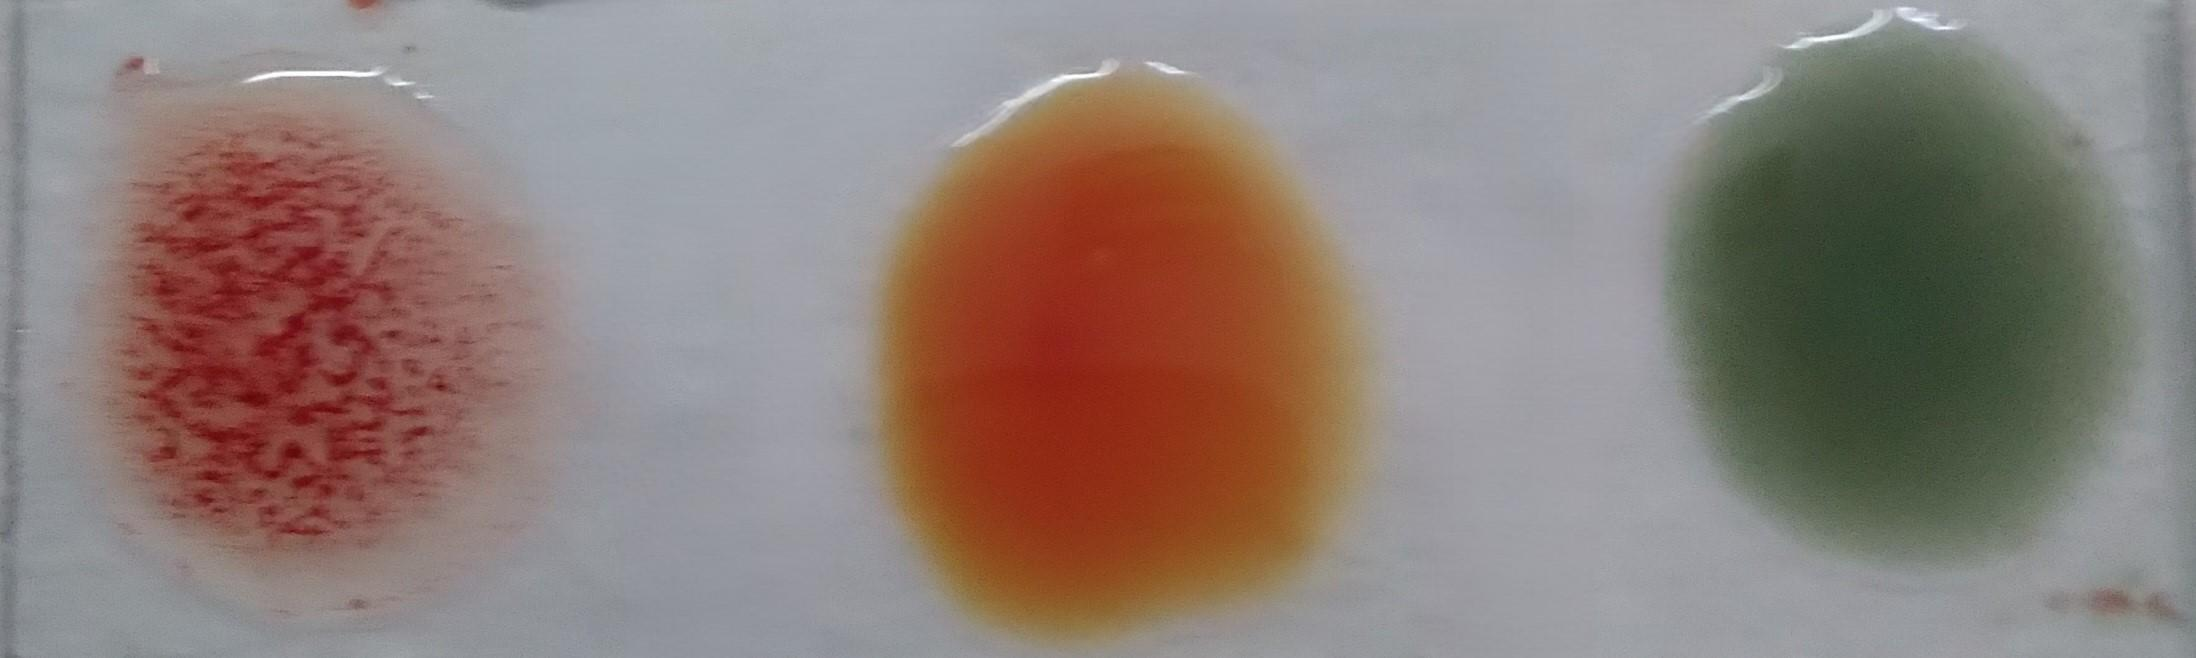D: (115, 70, 476, 610)
